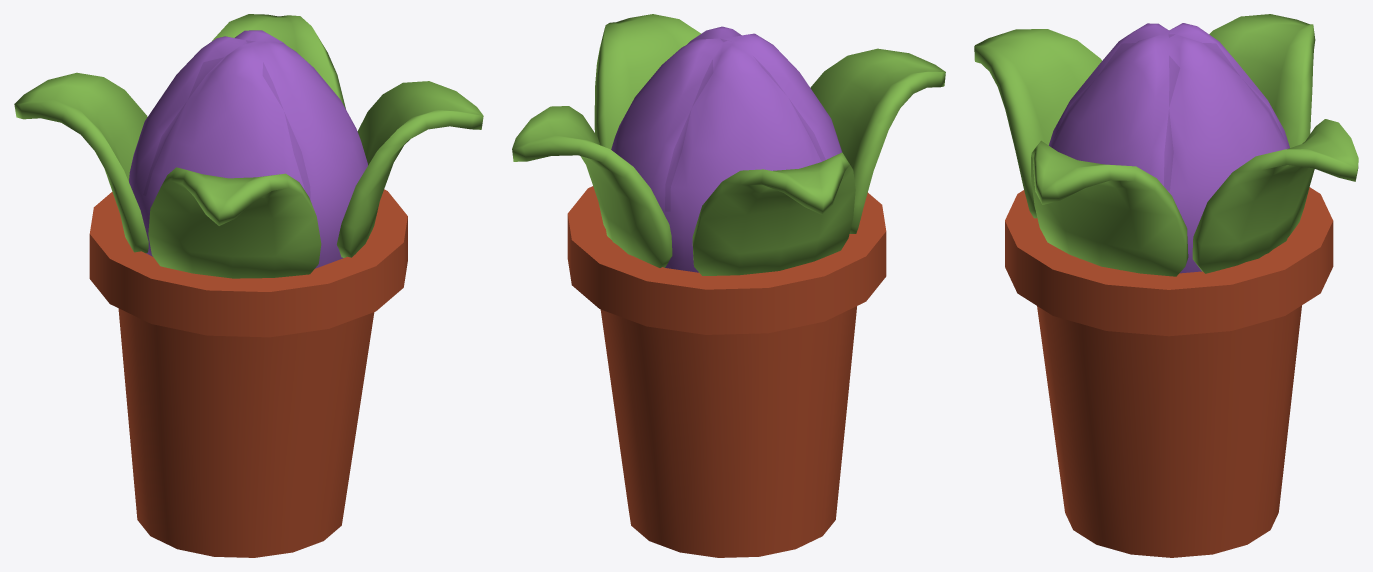
The model's file is plant_vase_small_improved.fbx.
The picture shows the model from 3 angles, left to right: view 1: azimuth 30°, elevation 25°; view 2: azimuth 150°, elevation 25°; view 3: azimuth 270°, elevation 25°; orthographic projection. The views are drawn at different scales.
Parts seen in each view (by area): view 1: vase1.007; view 2: vase1.007; view 3: vase1.007.
Boxes of the visible parts, x1,y1,x2,y2 form: vase1.007: [14, 14, 483, 557]; vase1.007: [512, 14, 945, 557]; vase1.007: [974, 14, 1358, 557].
Size of the model in its own units: 35.81 by 47.81 by 34.35.
